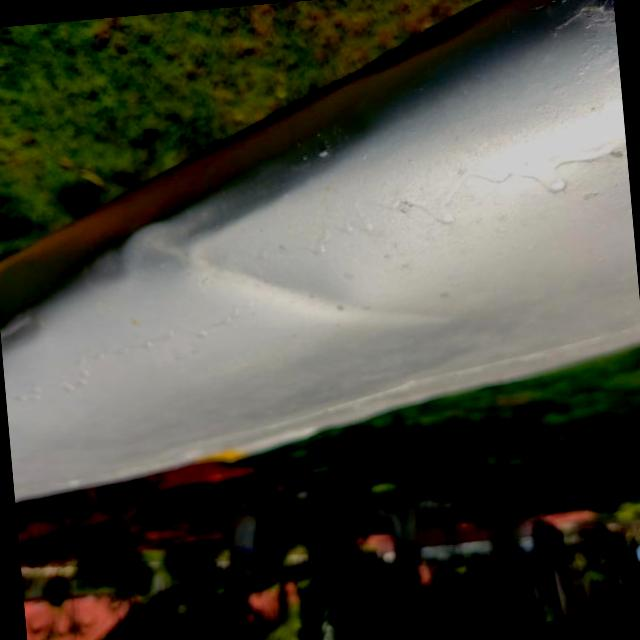dent: (85, 177, 384, 366), (0, 296, 61, 360)
